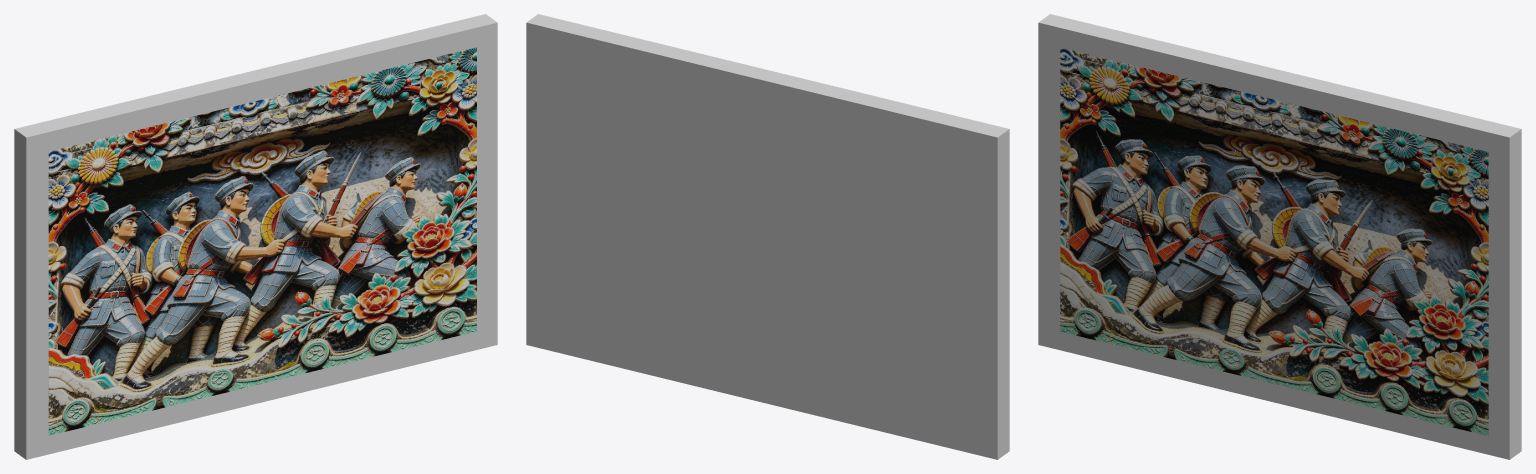
The model's file is linshuo (1).glb.
The picture shows the model from 3 angles, left to right: view 1: azimuth 30°, elevation 25°; view 2: azimuth 150°, elevation 25°; view 3: azimuth 330°, elevation 25°; orthographic projection.
Parts seen in each view (by area): view 1: 平面, 立方体; view 2: 立方体; view 3: 平面, 立方体.
Part boxes in pixels (box(x1,y1,x2,y2)): 平面: box(48, 47, 476, 435); 立方体: box(14, 14, 497, 459); 立方体: box(526, 14, 1009, 459); 平面: box(1060, 47, 1488, 436); 立方体: box(1038, 14, 1521, 459).
Bounding box in the file's own units: 3.47 × 2.27 × 0.1551.
1 material, 1 textured.
